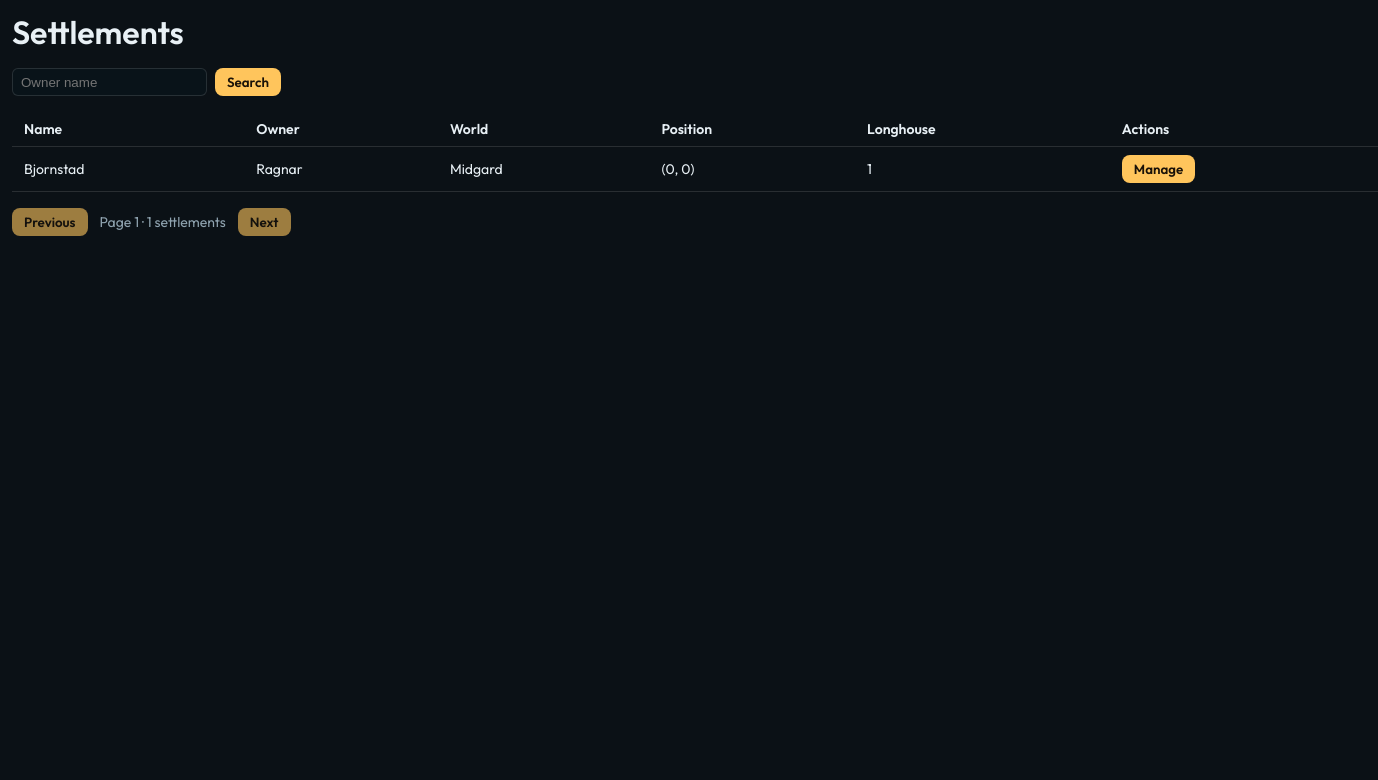
it: AdminSettlementsView › applies a resource grant and reflects the updated stock in the detail panel
This screenshot has width=1378, height=780.
Click the button "Manage" at (1158, 169), box [1122,155,1195,183]
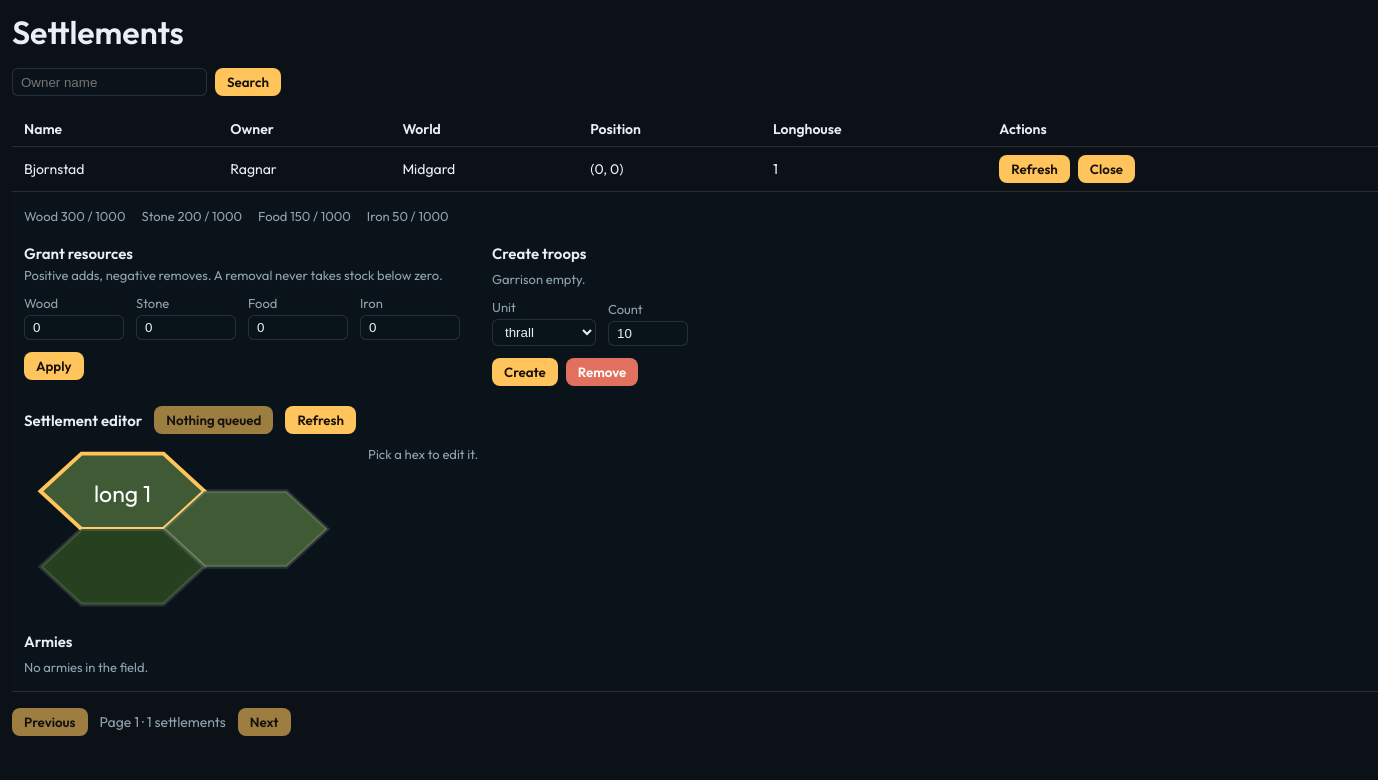
Replace the text in the number field labelled "Wood" with "500" at (74, 328), box [24,315,124,340]
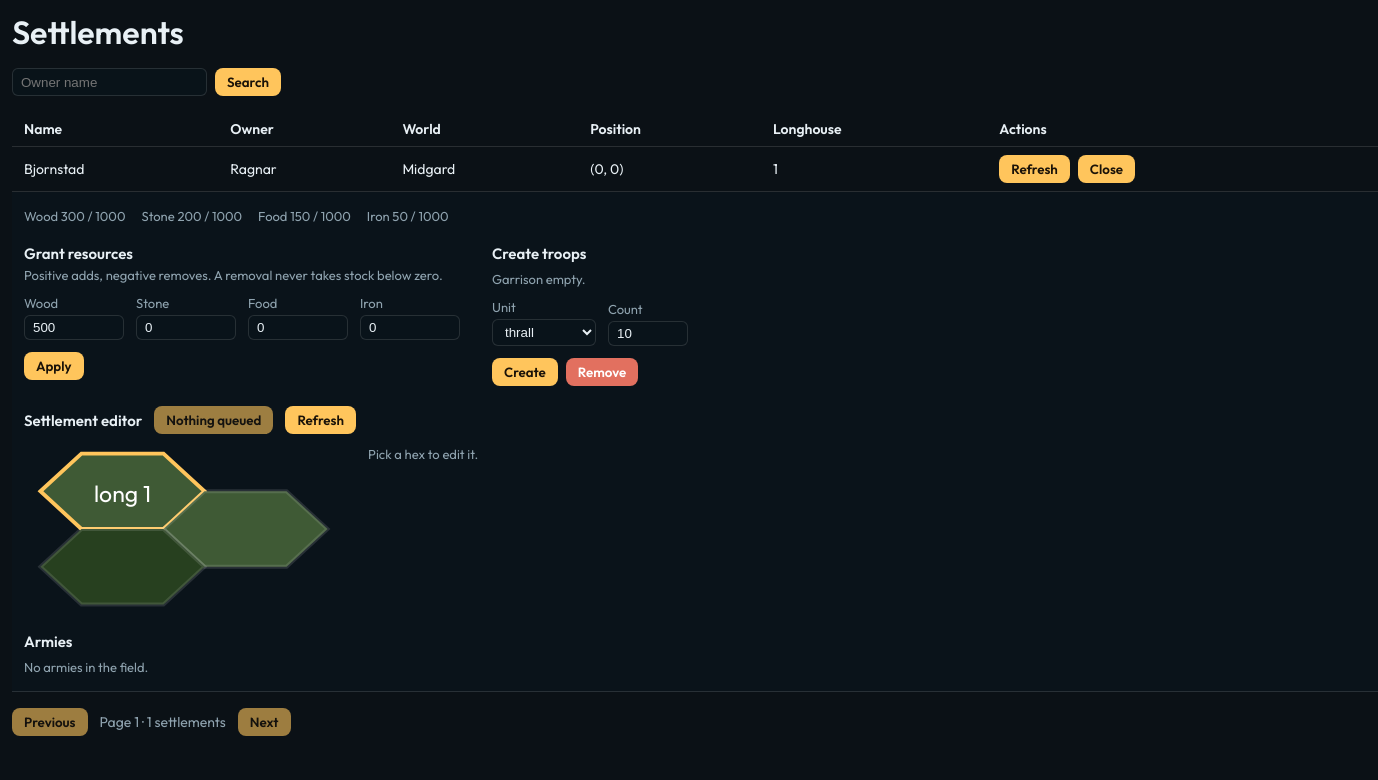
Submit the form with class "grant-form", box [24,244,460,386]
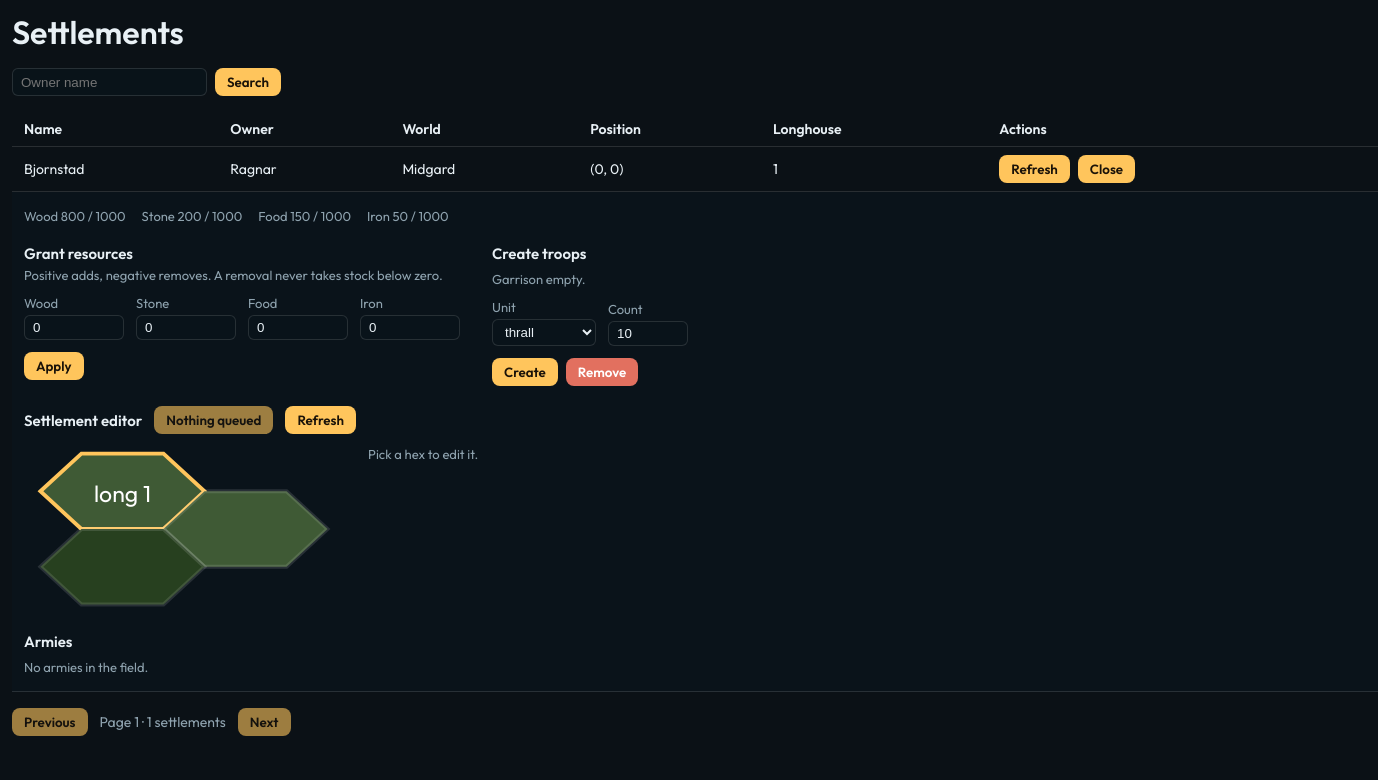
Expected: the text "Wood 800" is shown, [24,208,126,224]
